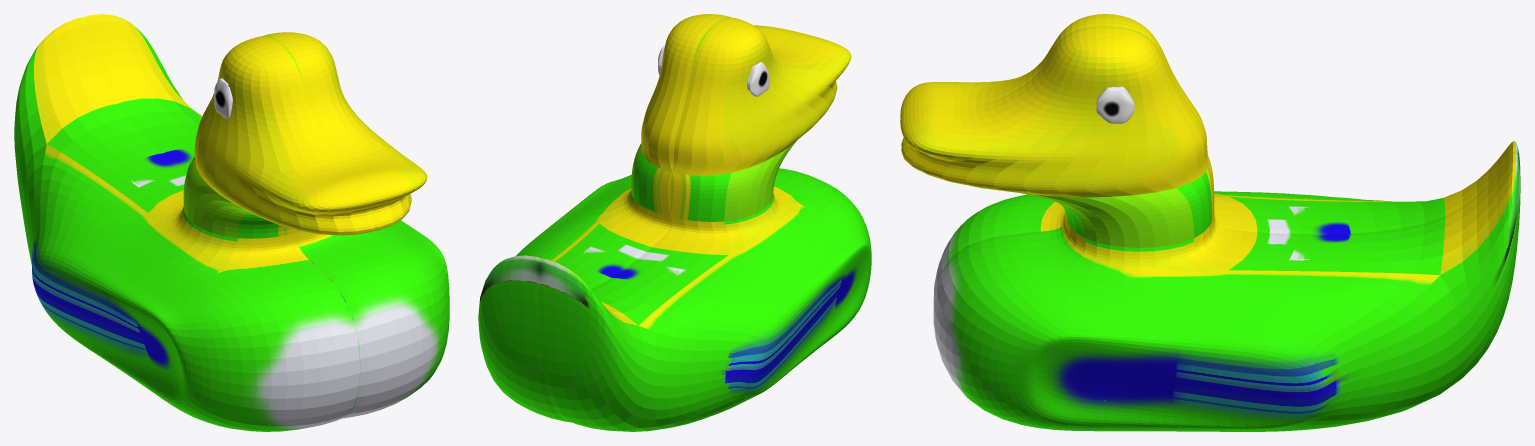
File: ente.fbx
The picture shows the model from 3 angles, left to right: view 1: azimuth 30°, elevation 25°; view 2: azimuth 150°, elevation 25°; view 3: azimuth 270°, elevation 25°; orthographic projection. The views are drawn at different scales.
Parts seen in each view (by area): view 1: Cube, Cube.002; view 2: Cube, Cube.002; view 3: Cube, Cube.001.
Boxes of the visible parts, bbox=[...] form: Cube: bbox=[14, 14, 449, 431]; Cube.002: bbox=[214, 78, 232, 119]; Cube: bbox=[478, 14, 871, 431]; Cube.002: bbox=[747, 62, 769, 96]; Cube: bbox=[900, 14, 1520, 431]; Cube.001: bbox=[1096, 86, 1134, 123].
Size of the model in its own units: 400 by 444 by 683.
